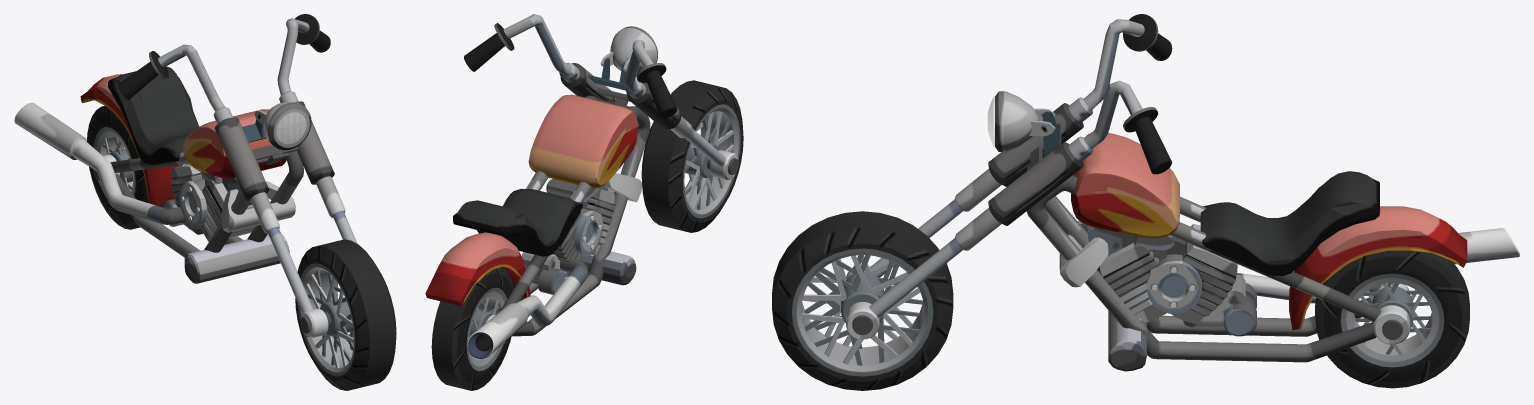
Rendered from motorcycle.glb.
The picture shows the model from 3 angles, left to right: view 1: azimuth 30°, elevation 25°; view 2: azimuth 150°, elevation 25°; view 3: azimuth 270°, elevation 25°; orthographic projection. The views are drawn at different scales.
Visible parts, largest first — view 1: HCR2_Ch_Steer_Upper_0, HCR2_Ch_Wheel_Front_2, HCR2_Ch_Seat_4, HCR2_Ch_Details_8, HCR2_Ch_Body_9, HCR2_Ch_Exhaust_6, HCR2_Ch_Frame_5, HCR2_Ch_Engine_7, HCR2_Ch_Wheel_Rear_3, HCR2_Ch_Steer_Lower_1; view 2: HCR2_Ch_Body_9, HCR2_Ch_Wheel_Front_2, HCR2_Ch_Steer_Upper_0, HCR2_Ch_Wheel_Rear_3, HCR2_Ch_Seat_4, HCR2_Ch_Frame_5, HCR2_Ch_Engine_7, HCR2_Ch_Exhaust_6, HCR2_Ch_Details_8, HCR2_Ch_Steer_Lower_1; view 3: HCR2_Ch_Wheel_Front_2, HCR2_Ch_Steer_Upper_0, HCR2_Ch_Body_9, HCR2_Ch_Wheel_Rear_3, HCR2_Ch_Frame_5, HCR2_Ch_Engine_7, HCR2_Ch_Seat_4, HCR2_Ch_Details_8, HCR2_Ch_Steer_Lower_1, HCR2_Ch_Exhaust_6.
Part boxes in pixels (box(x1,y1,x2,y2)): HCR2_Ch_Steer_Upper_0: box(118, 14, 345, 233); HCR2_Ch_Wheel_Front_2: box(295, 239, 396, 390); HCR2_Ch_Seat_4: box(108, 66, 199, 165); HCR2_Ch_Details_8: box(93, 154, 295, 283); HCR2_Ch_Body_9: box(80, 74, 286, 206); HCR2_Ch_Exhaust_6: box(14, 102, 186, 224); HCR2_Ch_Frame_5: box(110, 145, 303, 257); HCR2_Ch_Engine_7: box(162, 164, 255, 241); HCR2_Ch_Wheel_Rear_3: box(87, 106, 162, 229); HCR2_Ch_Steer_Lower_1: box(267, 211, 357, 338); HCR2_Ch_Body_9: box(425, 94, 638, 306); HCR2_Ch_Wheel_Front_2: box(641, 80, 743, 232); HCR2_Ch_Steer_Upper_0: box(464, 14, 692, 138); HCR2_Ch_Wheel_Rear_3: box(431, 267, 513, 390); HCR2_Ch_Seat_4: box(453, 188, 582, 256); HCR2_Ch_Frame_5: box(500, 95, 650, 336); HCR2_Ch_Engine_7: box(521, 179, 615, 294); HCR2_Ch_Exhaust_6: box(467, 258, 588, 358); HCR2_Ch_Details_8: box(485, 173, 642, 346); HCR2_Ch_Steer_Lower_1: box(685, 128, 738, 179); HCR2_Ch_Wheel_Front_2: box(772, 211, 953, 390); HCR2_Ch_Steer_Upper_0: box(955, 14, 1172, 250); HCR2_Ch_Body_9: box(1071, 133, 1467, 330); HCR2_Ch_Wheel_Rear_3: box(1315, 250, 1469, 388); HCR2_Ch_Frame_5: box(1026, 156, 1381, 362); HCR2_Ch_Engine_7: box(1088, 223, 1256, 336); HCR2_Ch_Seat_4: box(1200, 171, 1379, 275); HCR2_Ch_Details_8: box(1059, 220, 1410, 371); HCR2_Ch_Steer_Lower_1: box(846, 199, 963, 339); HCR2_Ch_Exhaust_6: box(1237, 228, 1519, 303).
Size of the model in its own units: 1.47 by 1.82 by 3.71.
Materials: 2 (1 with a texture image).
